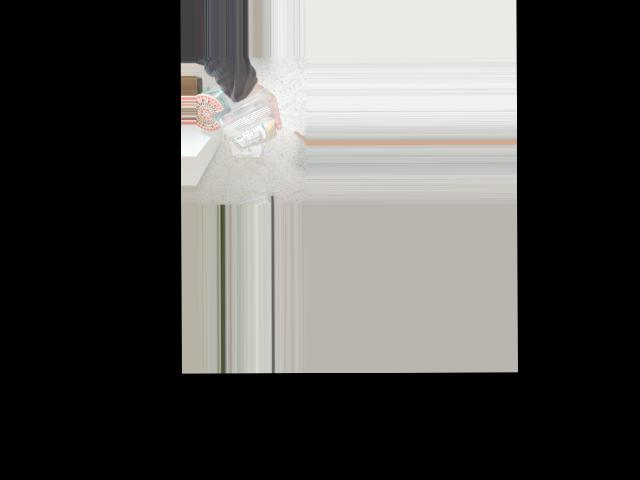cheese: (207, 87, 274, 162)
